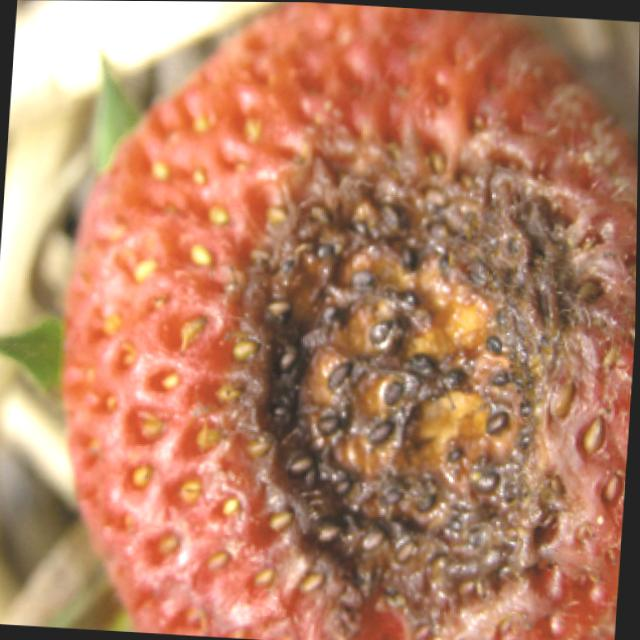Anthracnose Fruit Rot: (165, 103, 638, 640)
